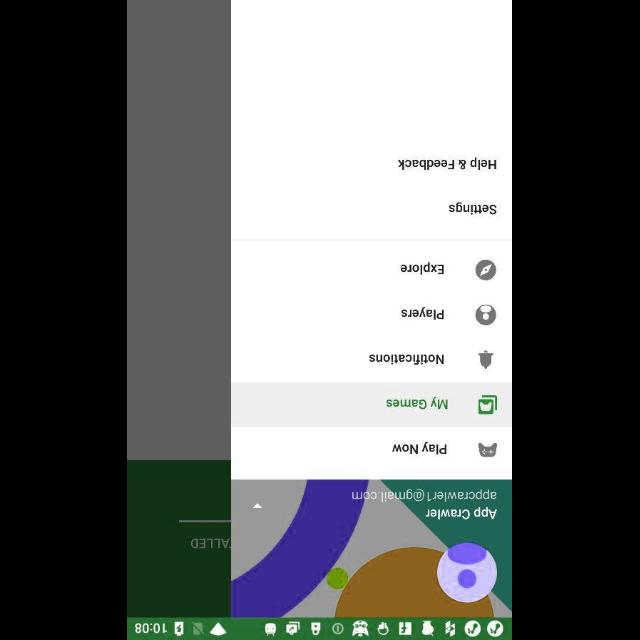icon: (437, 542, 498, 602), (475, 304, 497, 326), (475, 260, 497, 280), (478, 349, 494, 368), (252, 502, 264, 508)
image: (478, 394, 498, 414), (478, 442, 498, 456)
panel: (232, 0, 512, 616)
text: (352, 489, 498, 503), (398, 156, 497, 170), (426, 506, 498, 520), (370, 353, 444, 365), (386, 395, 448, 409), (449, 201, 497, 215), (392, 442, 448, 454), (400, 261, 444, 275), (402, 306, 444, 320)
uppertaskbar: (128, 617, 512, 639)
